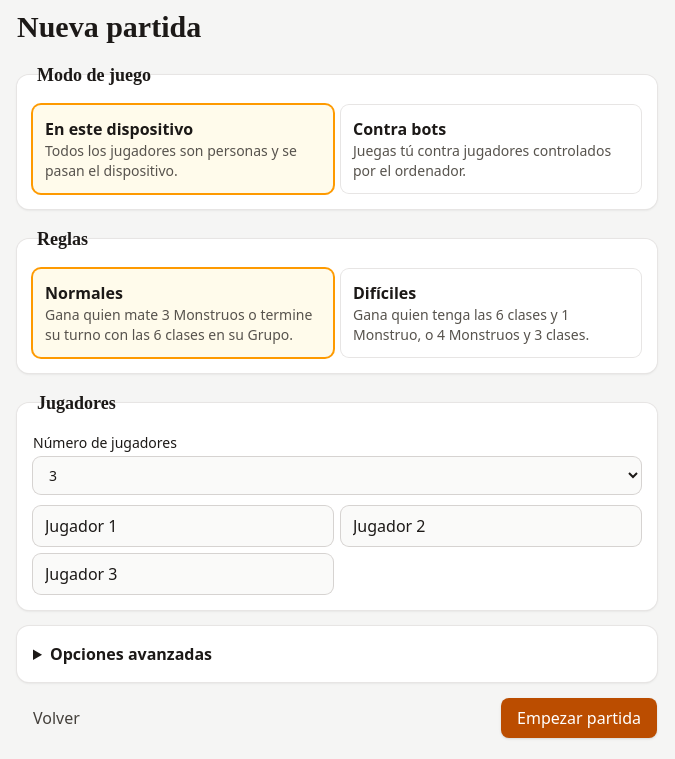
Test: Pantalla de configuración › en este dispositivo: valida nombres repetidos
(page scrolled)
Step 1. Replace the text in the field named "Jugador 2" with "Jugador 1" → (491, 526), box [341,506,641,546]
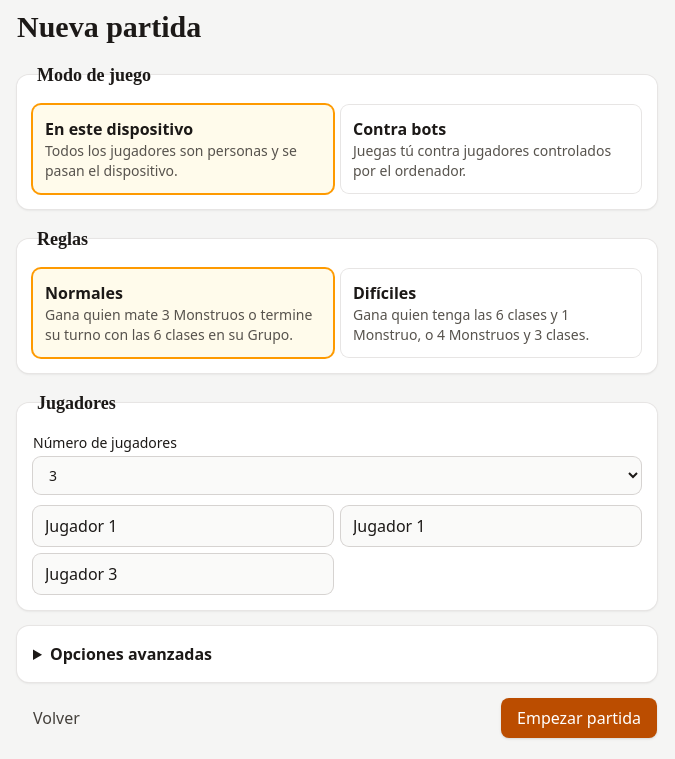
Step 2. Click the button "Empezar partida" → click(579, 718), box [501,698,657,738]
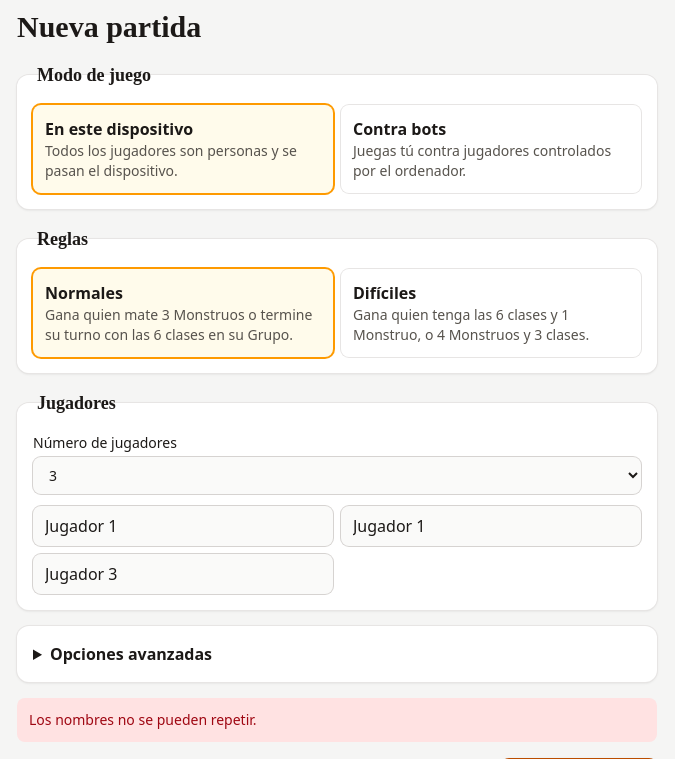
Expected: the message shows "no se pueden repetir", [29,710,256,729]
